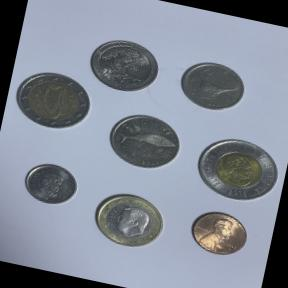coin: (185, 124, 288, 215), (98, 100, 192, 181), (6, 63, 99, 142), (84, 182, 175, 258), (81, 31, 166, 99), (182, 200, 256, 262), (16, 154, 84, 212)
